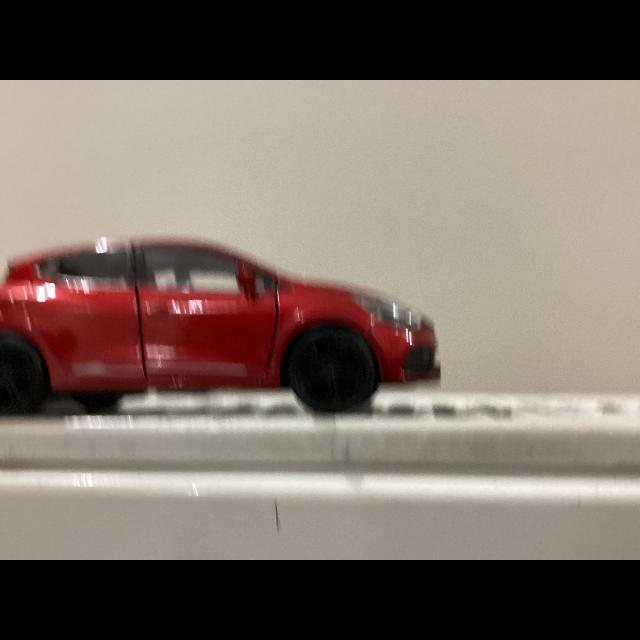Dogru_Jant: (298, 338, 364, 406), (4, 346, 42, 396)
